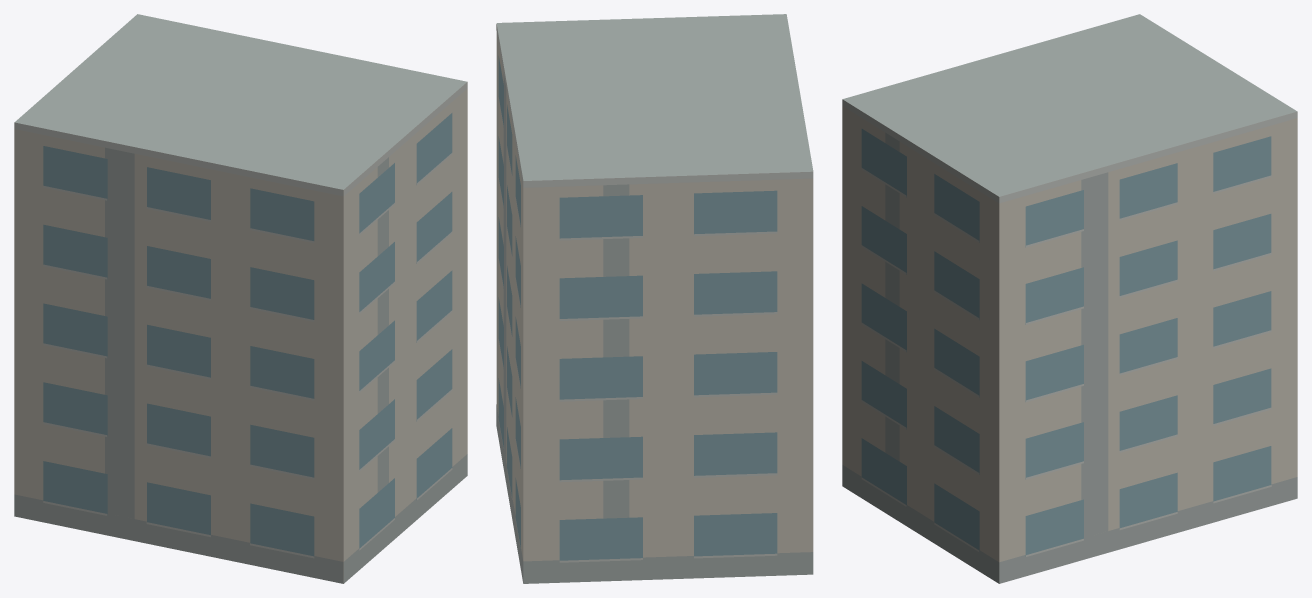
File: survey-upis-32887533.glb
The picture shows the model from 3 angles, left to right: view 1: azimuth 30°, elevation 25°; view 2: azimuth 150°, elevation 25°; view 3: azimuth 270°, elevation 25°; orthographic projection. The views are drawn at different scales.
Visible parts, largest first — view 1: survey-upis-32887533.tmp; view 2: survey-upis-32887533.tmp; view 3: survey-upis-32887533.tmp.
Part boxes in pixels (box(x1,y1,x2,y2)): survey-upis-32887533.tmp: box(14, 14, 467, 583); survey-upis-32887533.tmp: box(496, 14, 813, 583); survey-upis-32887533.tmp: box(842, 14, 1297, 583).
Size of the model in its own units: 14.71 by 14.5 by 15.47.
